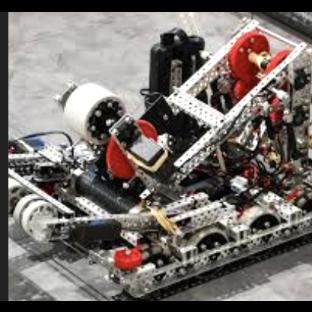Robot: (8, 18, 311, 297)
